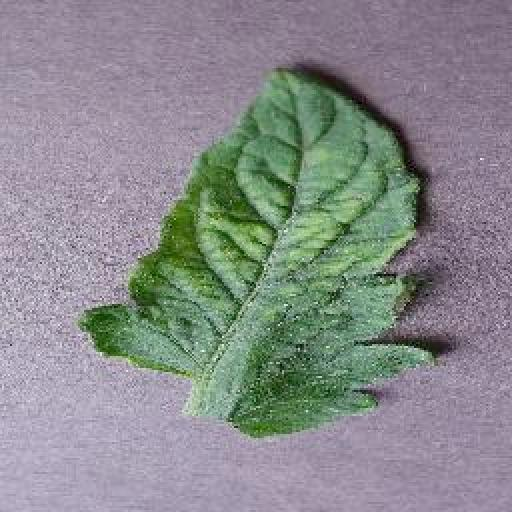disease_tomato: (78, 64, 434, 440)
